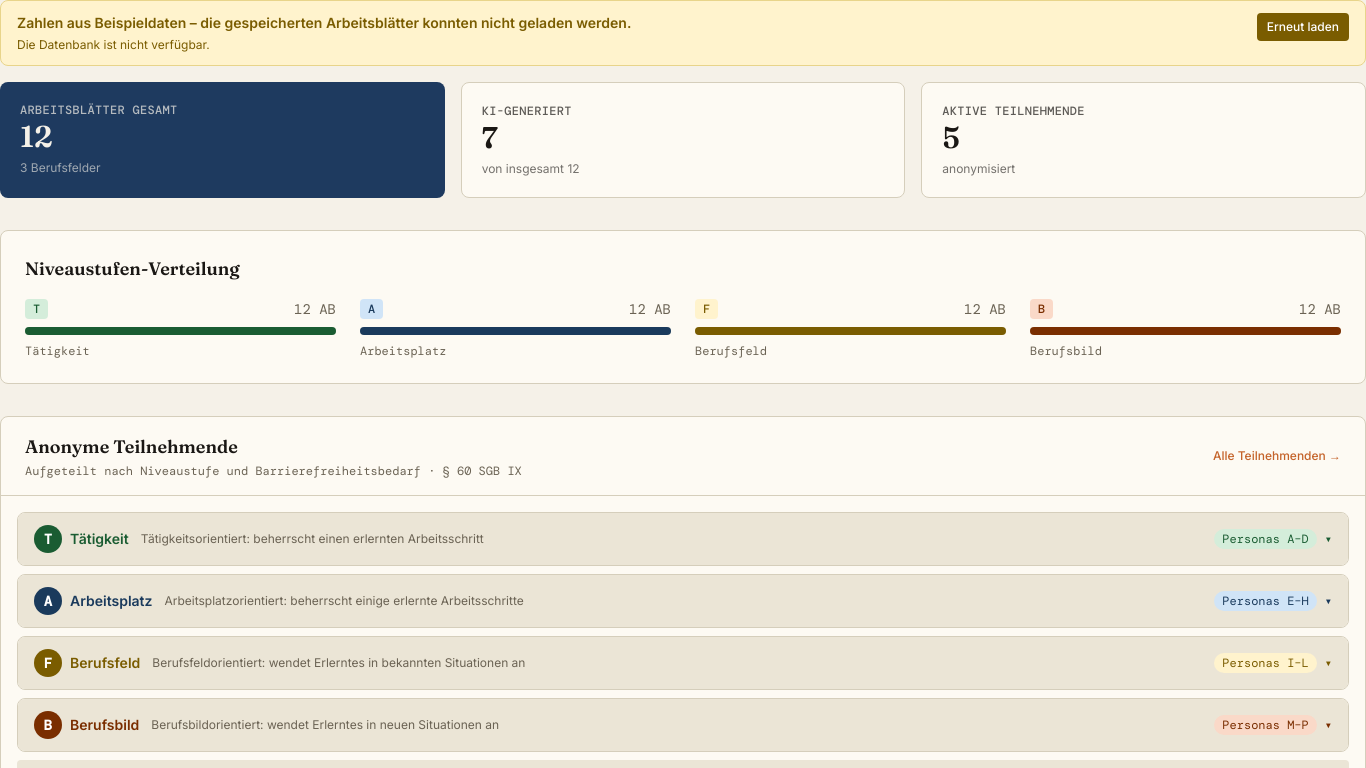
Dashboard (FE-06) › fällt bei Fehler auf Beispieldaten zurück und lädt auf Knopfdruck neu
Expected: the message shows "Zahlen aus Beispieldaten", [17,14,631,31]
Expected: the message shows "Die Datenbank ist nicht verfügbar.", [17,37,210,52]
Click the button "Erneut laden" at [1303, 27], box [1257,13,1349,41]
(page scrolled)
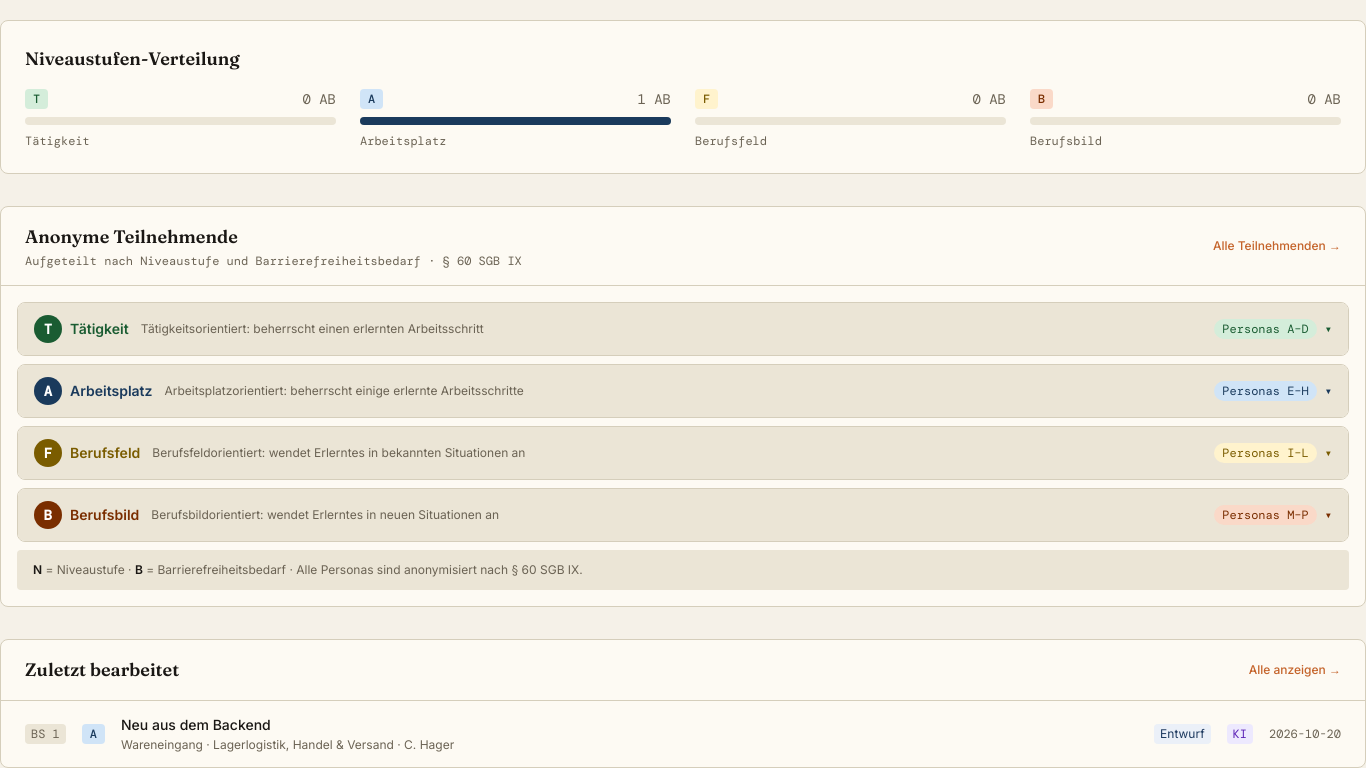
Now the text "Neu aus dem Backend" is shown, box [121,716,271,733]
Now the message is gone
